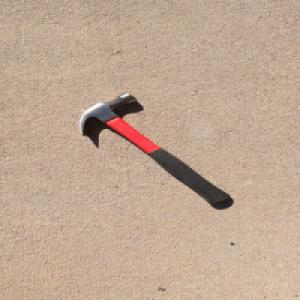Hammer: (74, 89, 234, 207)
